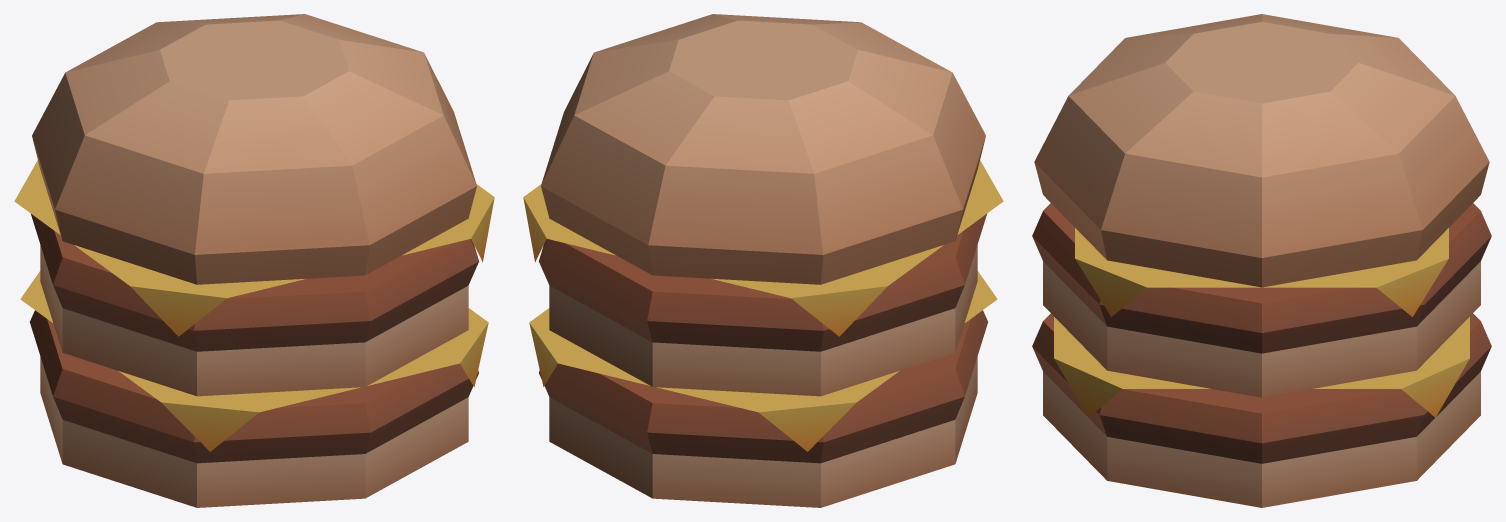
File: burger-cheese-double.glb
The picture shows the model from 3 angles, left to right: view 1: azimuth 30°, elevation 25°; view 2: azimuth 150°, elevation 25°; view 3: azimuth 270°, elevation 25°; orthographic projection.
Visible parts, largest first — view 1: geometry_0; view 2: geometry_0; view 3: geometry_0.
Boxes of the visible parts, x1,y1,x2,y2 form: geometry_0: [14, 14, 494, 507]; geometry_0: [523, 14, 1003, 507]; geometry_0: [1032, 14, 1491, 507].
Size of the model in its own units: 0.9804 by 0.83 by 0.9804.
